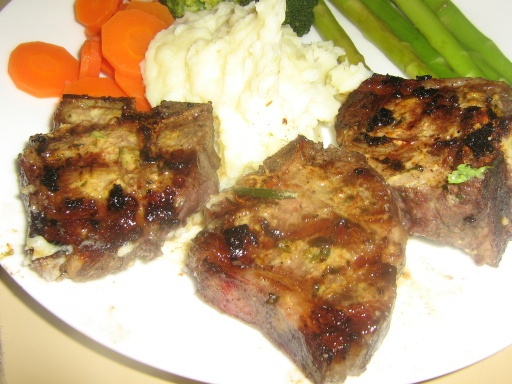background: (6, 0, 409, 230)
